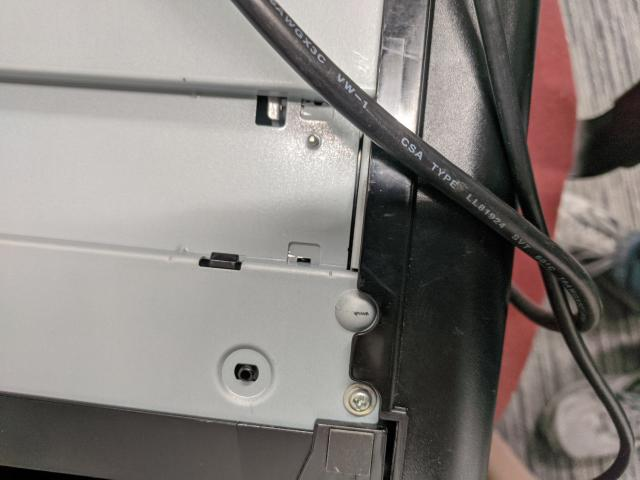CRS: (350, 390, 371, 412)
